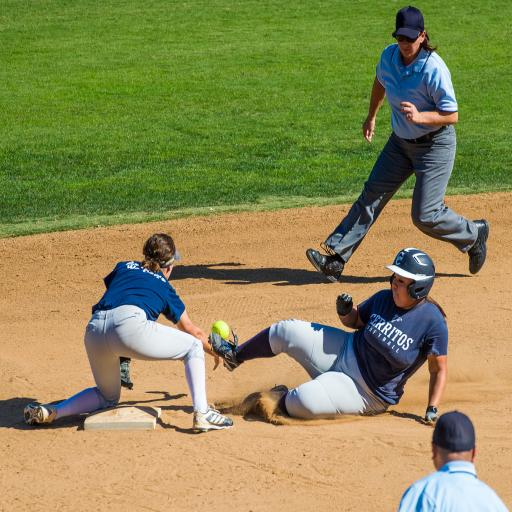Person: (296, 41, 508, 279), (236, 237, 446, 428), (18, 230, 228, 420), (391, 393, 511, 494)
gloves: (330, 277, 358, 312), (422, 379, 441, 399)
helmet: (391, 243, 441, 288)
no_boots: (16, 381, 66, 412), (182, 378, 232, 409), (305, 247, 355, 278), (200, 320, 250, 350), (451, 242, 501, 272)
no_gloves: (354, 132, 380, 168), (394, 117, 420, 153)
no_goggle: (390, 272, 408, 285)
no_helmet: (384, 46, 428, 72), (135, 238, 179, 264), (434, 390, 478, 416)
none: (90, 258, 194, 332), (366, 282, 444, 376), (372, 79, 454, 164)
